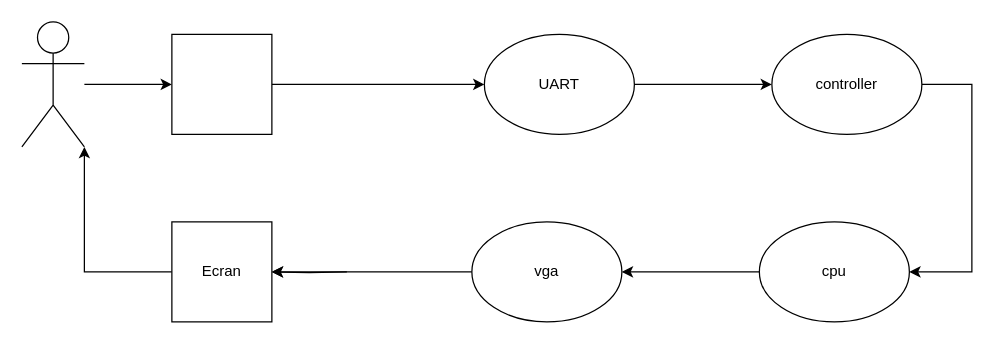
Some shapes in this 1004 by 344 pixel diagram are drawn without their labels. Here are the shapes that lost their labels. From the top down, the centre of each, then its label:
At pixel 52 84: "Actor".
At pixel 221 83: "Clavier".
